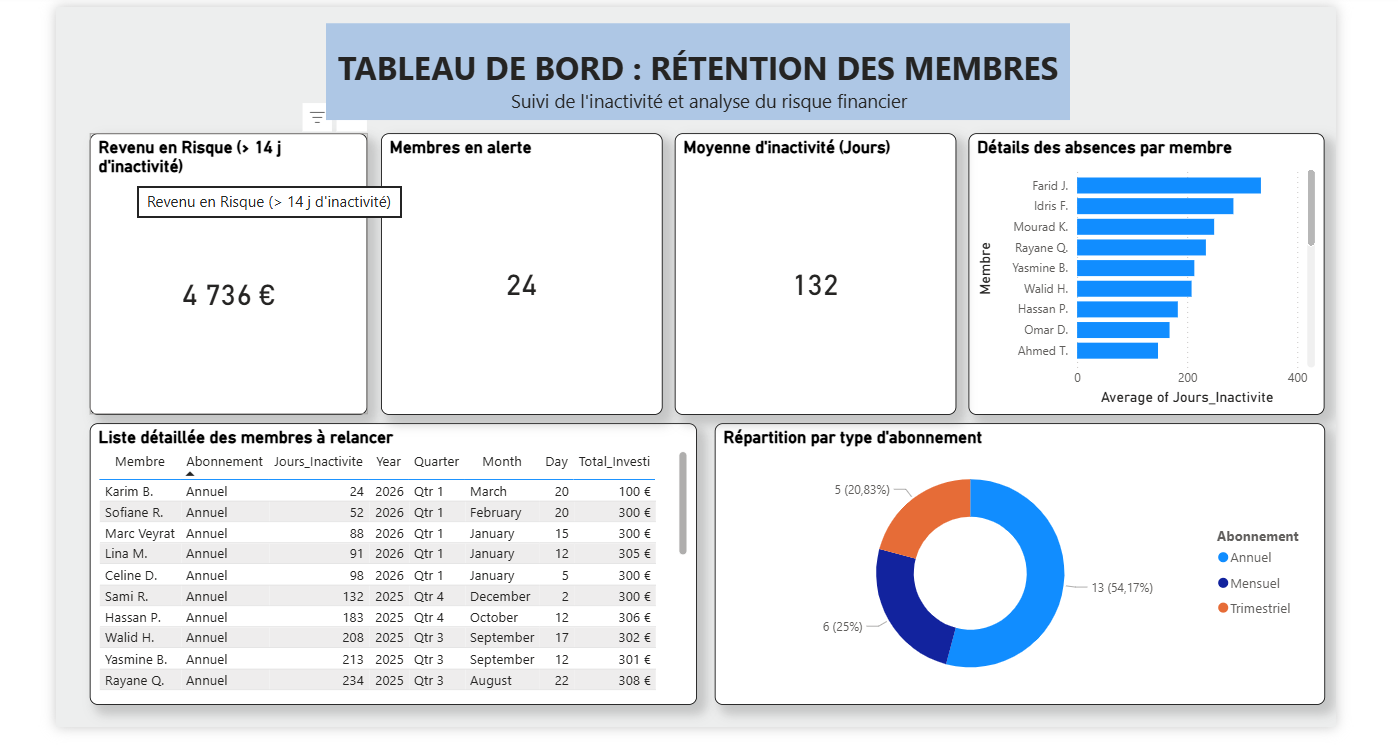

What the dashboard file says about the page in this screenshot:
{"tool":"powerbi","page":{"name":"Page 1","canvas":[1280,720],"ordinal":0},"visuals":[{"type":"card","title":"Revenu en Risque (> 14 j d''inactivité)","fields":{"Values":["Sum(Vue_Alerte_Retention.Total_Investi)"]},"box":[33.8,126.4,277.6,281.2],"z":0},{"type":"textbox","box":[311.6,11.5,745.9,99.6],"z":1000},{"type":"clusteredBarChart","title":"Détails des absences par membre","fields":{"Category":["Vue_Alerte_Retention.Membre"],"Y":["Avg(Vue_Alerte_Retention.Jours_Inactivite)"]},"box":[913,126.4,356,281.2],"z":2000},{"type":"tableEx","title":"Liste détaillée des membres à relancer","fields":{"Values":["Vue_Alerte_Retention.Membre","Vue_Alerte_Retention.Abonnement","Vue_Alerte_Retention.Jours_Inactivite","Vue_Alerte_Retention.Derniere_Visite.Variation.Date Hierarchy.Year","Vue_Alerte_Retention.Derniere_Visite.Variation.Date Hierarchy.Quarter","Vue_Alerte_Retention.Derniere_Visite.Variation.Date Hierarchy.Month","Vue_Alerte_Retention.Derniere_Visite.Variation.Date Hierarchy.Day","Vue_Alerte_Retention.Total_Investi"]},"box":[33.8,416.5,606.9,281.2],"z":3000},{"type":"donutChart","title":"Répartition par type d''abonnement","fields":{"Category":["Vue_Alerte_Retention.Abonnement"],"Y":["Count(Vue_Alerte_Retention.id_membre)"]},"box":[658.5,416.5,610.5,281.2],"z":4000},{"type":"card","title":"Membres en alerte","fields":{"Values":["CountNonNull(Vue_Alerte_Retention.id_membre)"]},"box":[324.8,126.4,281.2,281.2],"z":5000},{"type":"card","title":"Moyenne d''inactivité (Jours)","fields":{"Values":["Avg(Vue_Alerte_Retention.Jours_Inactivite)"]},"box":[619.4,126.4,281.2,281.2],"z":6000}]}

Visuals, with their boxes in screenshot pixels (x1, y1, x2, y2):
"Revenu en Risque (> 14 j d''inactivité)" card: 88:137:365:417
textbox: 365:22:1107:122
"Détails des absences par membre" clusteredBarChart: 964:137:1318:417
"Liste détaillée des membres à relancer" tableEx: 88:426:693:706
"Répartition par type d''abonnement" donutChart: 710:426:1318:706
"Membres en alerte" card: 378:137:658:417
"Moyenne d''inactivité (Jours)" card: 671:137:951:417
